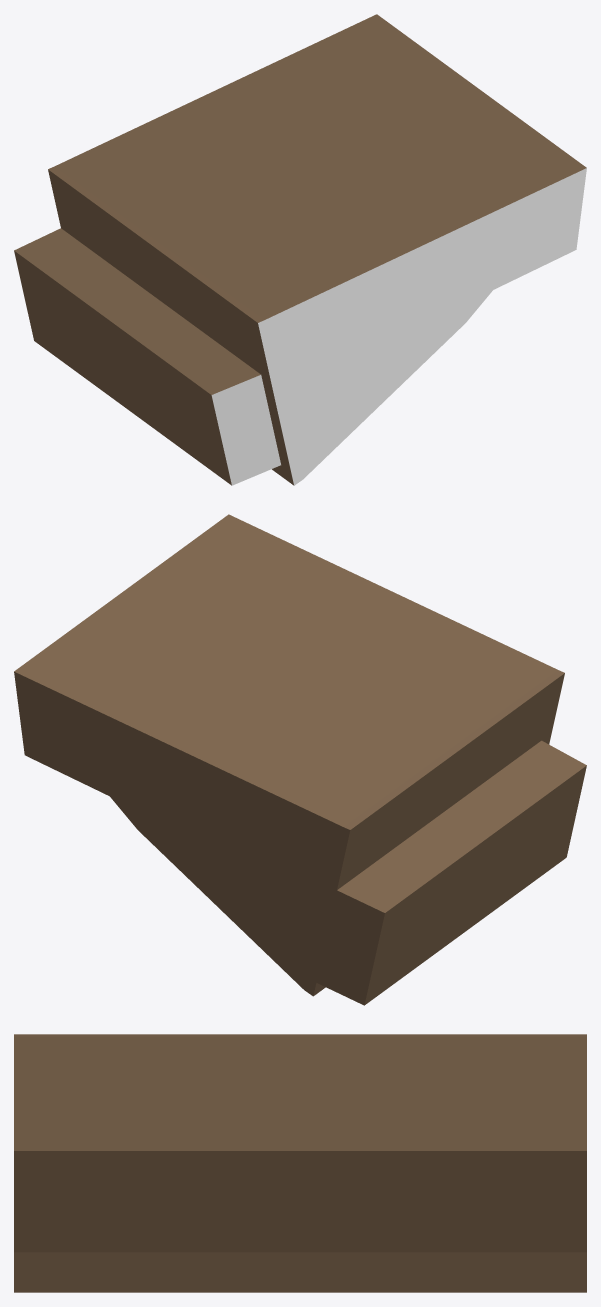
3 views of the same model, one above another, from view 1: azimuth 30°, elevation 25°; view 2: azimuth 150°, elevation 25°; view 3: azimuth 270°, elevation 25° (orthographic). The views are drawn at different scales.
Parts seen in each view (by area): view 1: City_2316658; view 2: City_2316658; view 3: City_2316658.
Boxes of the visible parts, bbox=[...] form: City_2316658: bbox=[14, 14, 586, 485]; City_2316658: bbox=[14, 514, 586, 1005]; City_2316658: bbox=[14, 1034, 586, 1292].
Size of the model in its own units: 1391 by 903 by 1395.
